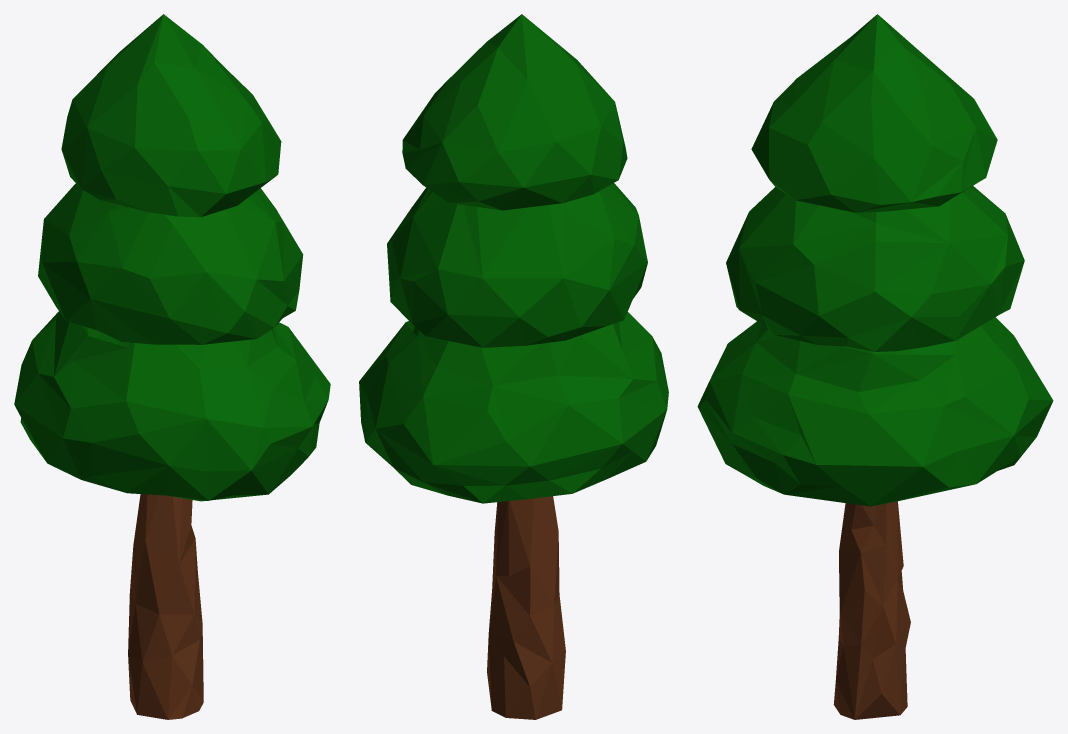
Rendered from Pine.fbx.
3 renders of one model, left to right at view 1: azimuth 30°, elevation 25°; view 2: azimuth 150°, elevation 25°; view 3: azimuth 270°, elevation 25°, orthographic.
Visible parts, largest first — view 1: Pine tree.001, Pine tree; view 2: Pine tree.001, Pine tree; view 3: Pine tree.001, Pine tree.
Boxes of the visible parts, x1=… form: Pine tree.001: x1=14, y1=14, x2=330, y2=501; Pine tree: x1=128, y1=494, x2=203, y2=719; Pine tree.001: x1=359, y1=14, x2=668, y2=503; Pine tree: x1=487, y1=496, x2=565, y2=719; Pine tree.001: x1=697, y1=14, x2=1053, y2=506; Pine tree: x1=833, y1=501, x2=910, y2=719.
Bounding box in the file's own units: 142 × 304 × 123.
